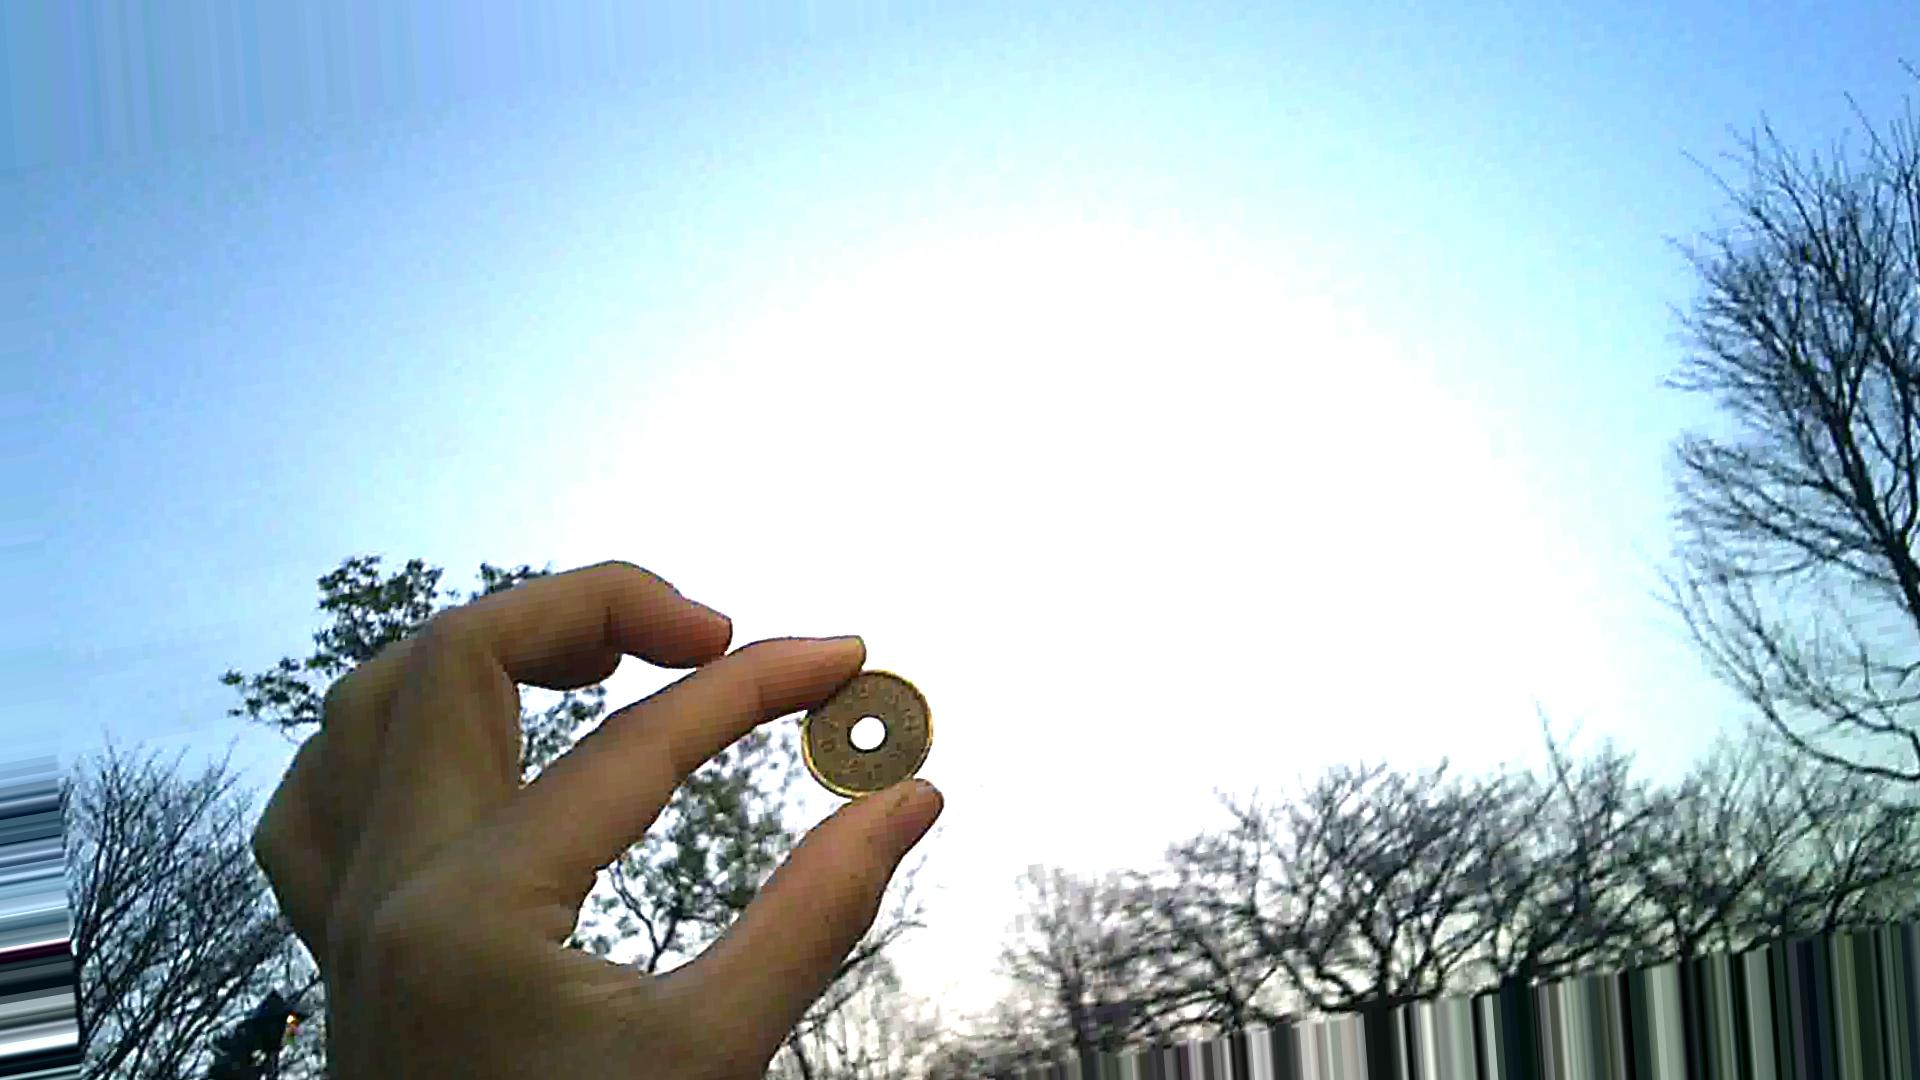5 Yen: (798, 669, 945, 810)
